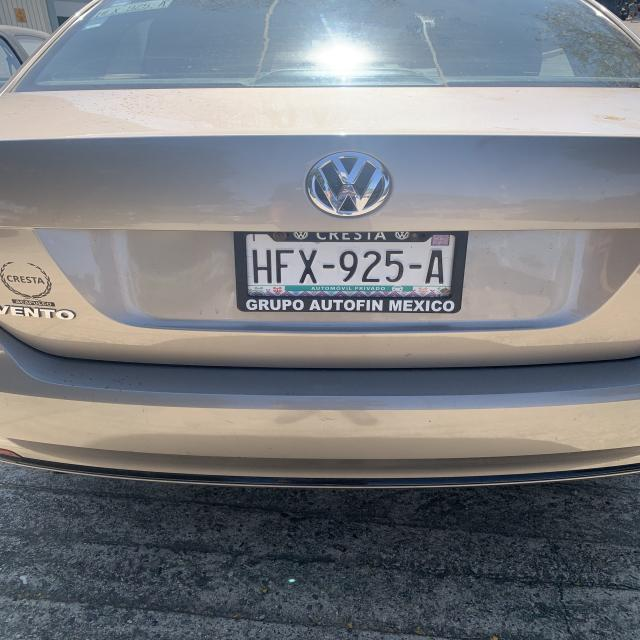placa: (243, 244, 453, 291)
